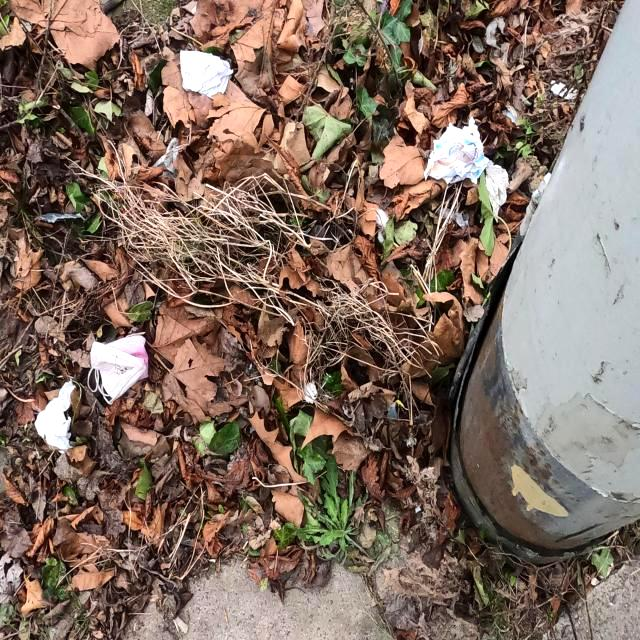Mask: (86, 328, 150, 402), (34, 376, 76, 454)
Paper: (178, 47, 234, 97), (484, 152, 511, 224), (550, 78, 584, 100)
Plastic: (422, 114, 490, 184)
